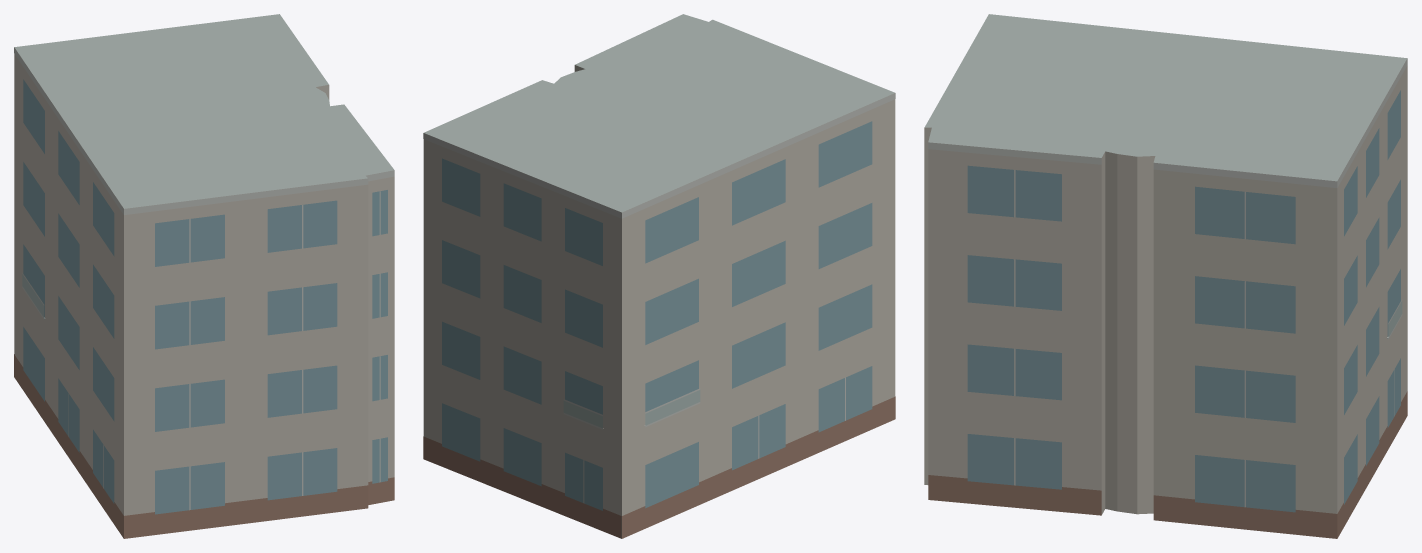
Rendered from survey-upis-32806386.glb.
3 renders of one model, left to right at view 1: azimuth 30°, elevation 25°; view 2: azimuth 150°, elevation 25°; view 3: azimuth 270°, elevation 25°, orthographic. The views are drawn at different scales.
Visible parts, largest first — view 1: survey-upis-32806386.tmp; view 2: survey-upis-32806386.tmp; view 3: survey-upis-32806386.tmp.
Boxes of the visible parts, x1=… form: survey-upis-32806386.tmp: x1=14, y1=14, x2=394, y2=538; survey-upis-32806386.tmp: x1=423, y1=14, x2=895, y2=538; survey-upis-32806386.tmp: x1=924, y1=14, x2=1407, y2=538.
Size of the model in its own units: 12.86 by 12.8 by 15.68.
